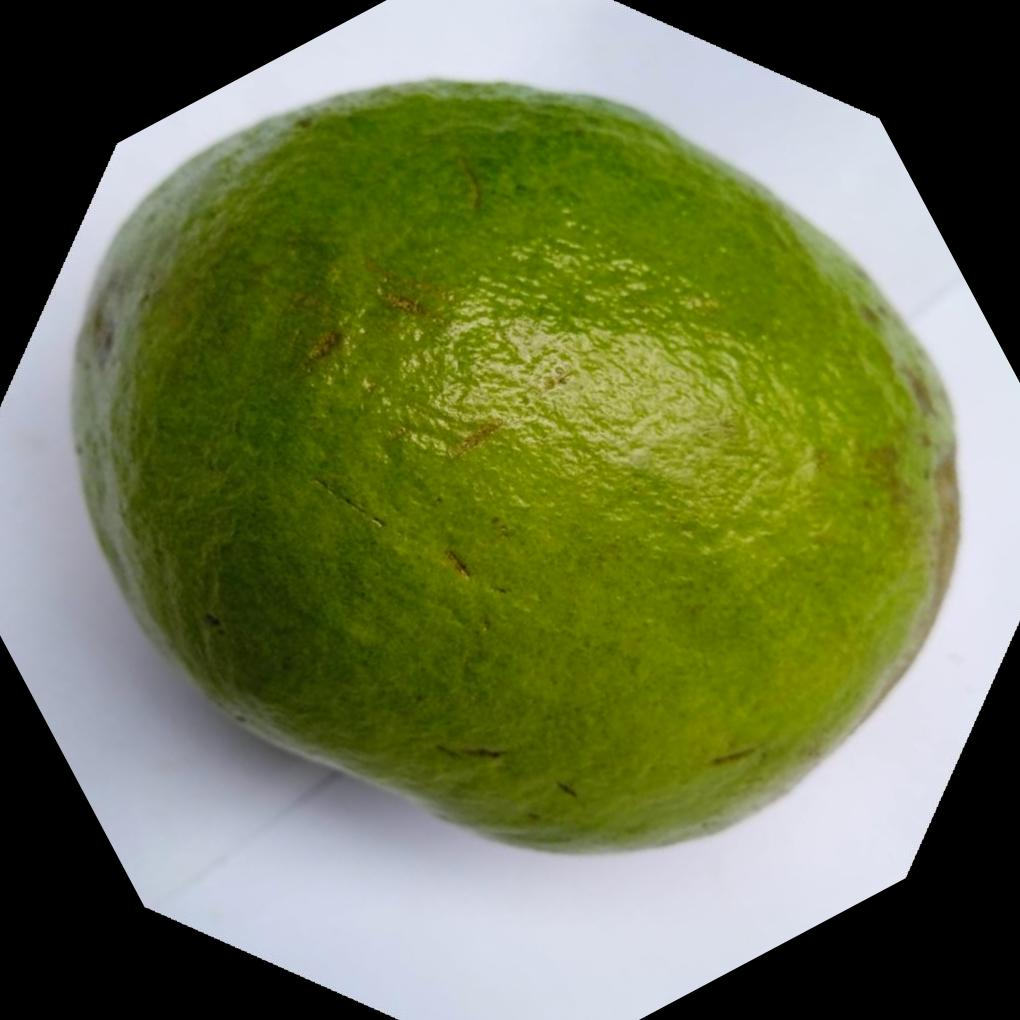FreshGuava: (64, 72, 963, 855)
